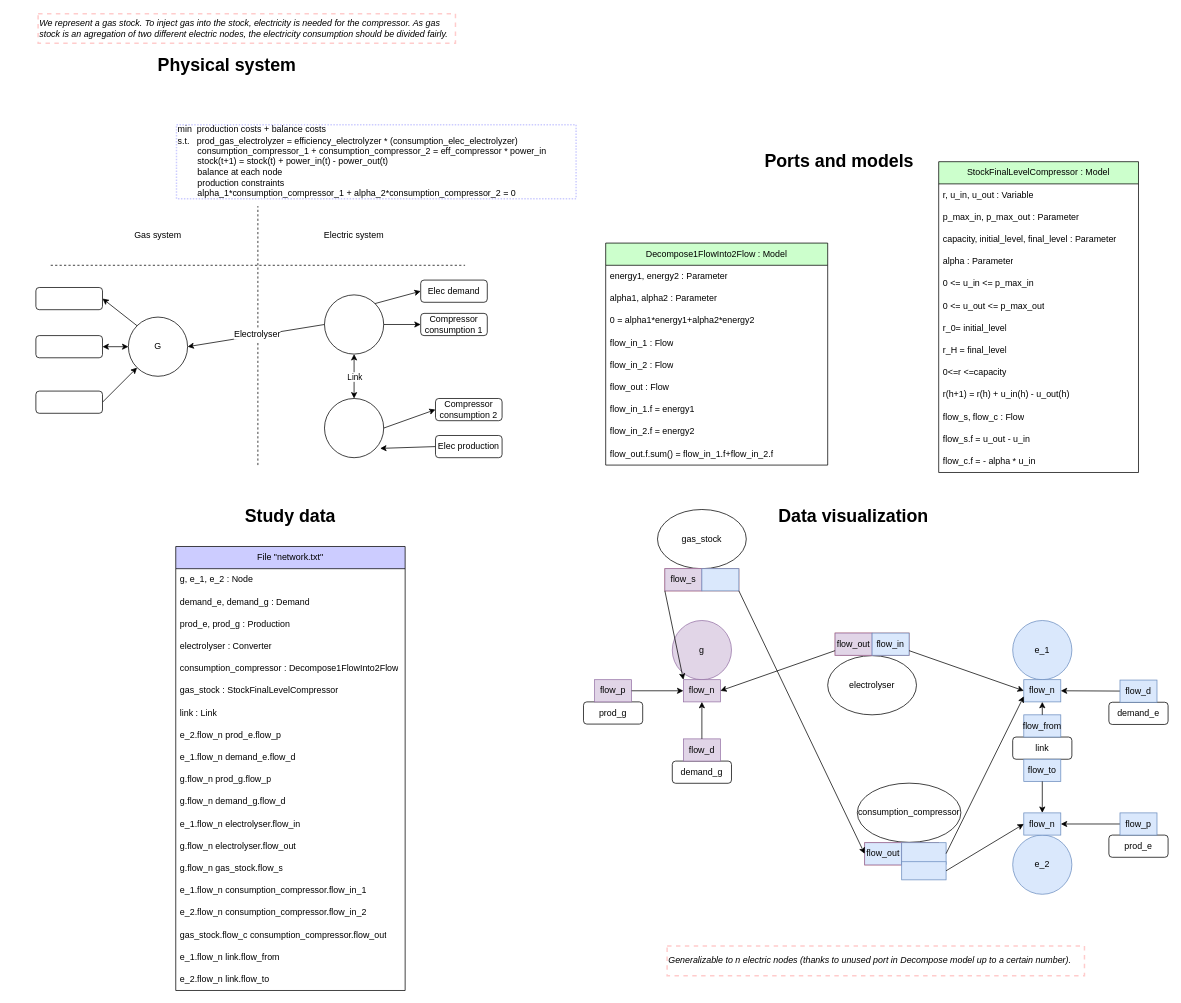
Image size: 1181x1003. Some labels were removed from this diagram. The shapes that lost their labels are listed below. From the top down, each one's centre as x and y in pixels, then its label:
At [68,298]: "Gas demand".
At [354,324]: "E1".
At [68,346]: "Gas stock".
At [68,401]: "Gas production".
At [354,428]: "E2".
At [720,579]: "flow_c".
At [923,853]: "flow_in_1".
At [923,870]: "flow_in_2".
